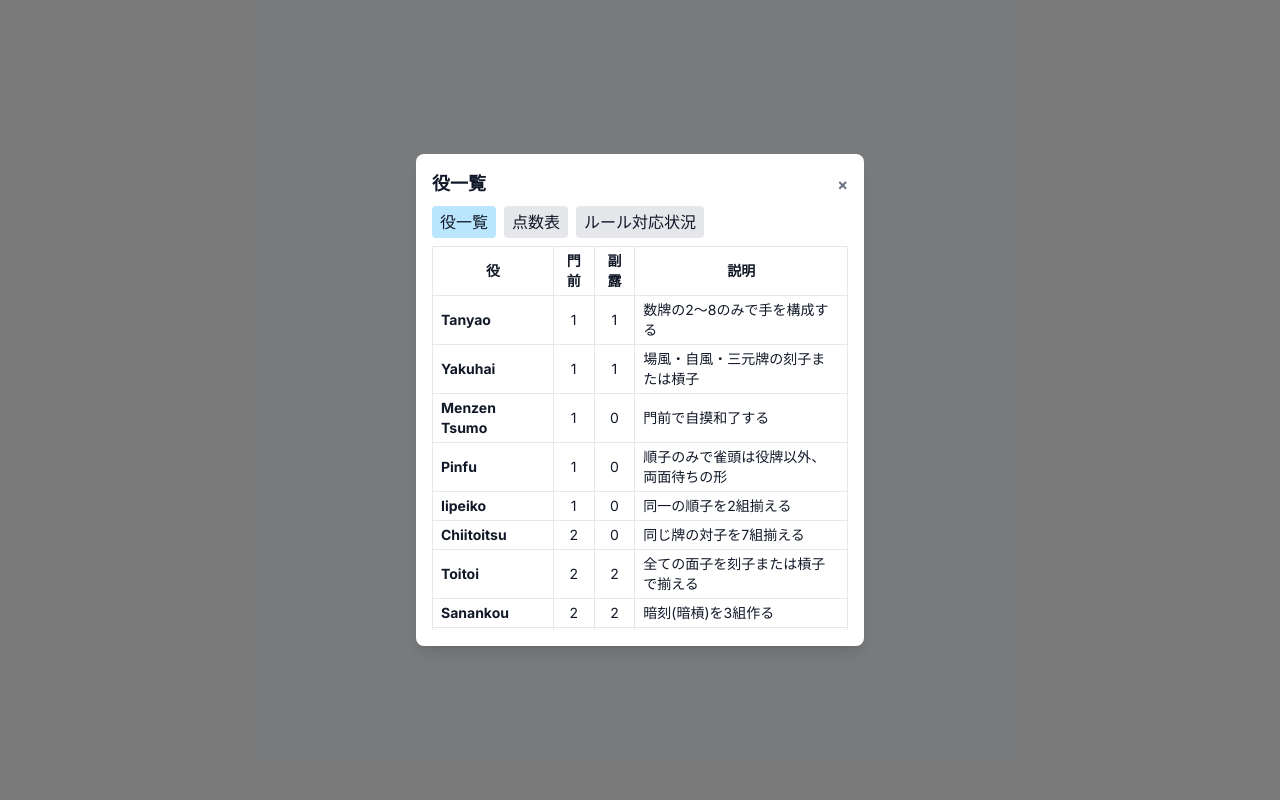
Test: HelpModal › switches between tabs and shows ScoreTable
Expected: the heading "役一覧" is shown, [432, 170, 486, 198]
Click the button "点数表". click: (536, 222)
box: [504, 206, 568, 238]
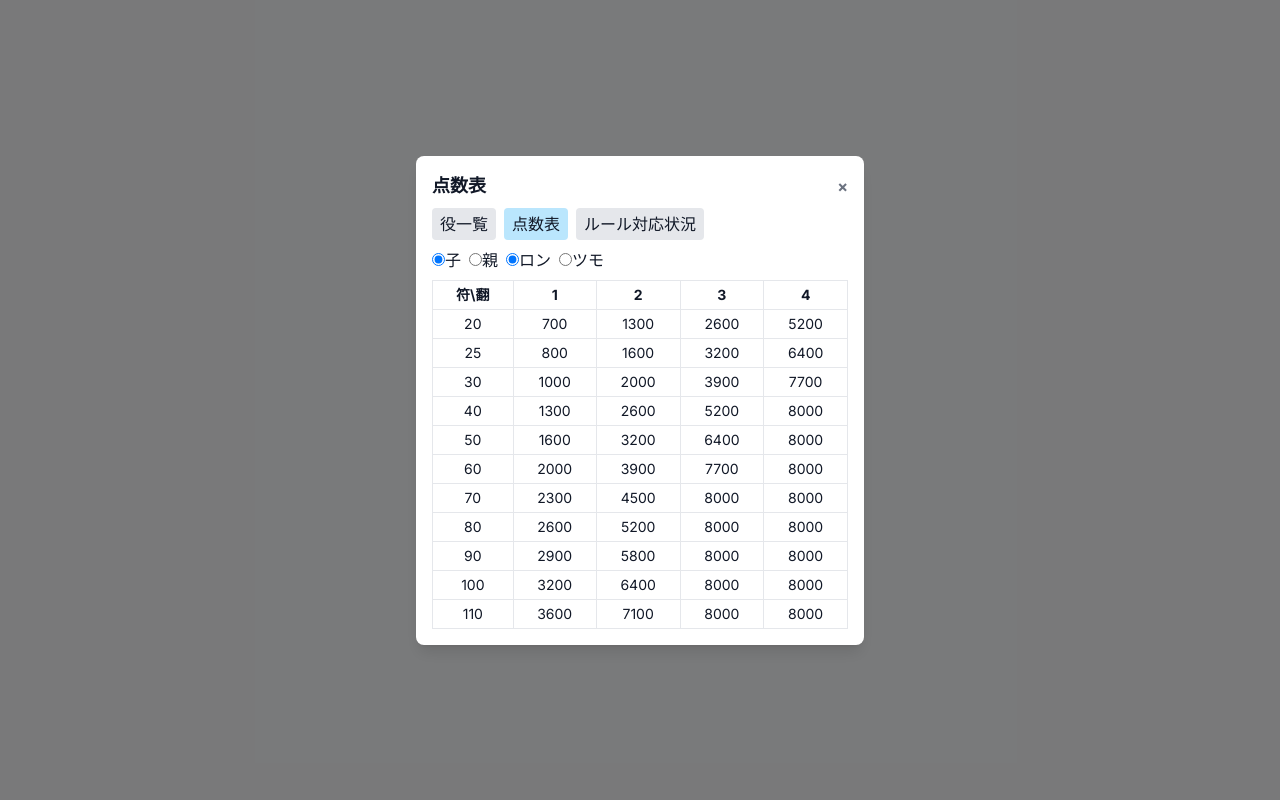
Expected: the heading "点数表" is shown, [432, 172, 486, 200]
Expected: the column heading "符\\翻" is shown, [432, 280, 513, 309]
Click the button "役一覧". click: (464, 224)
box: [432, 208, 496, 240]
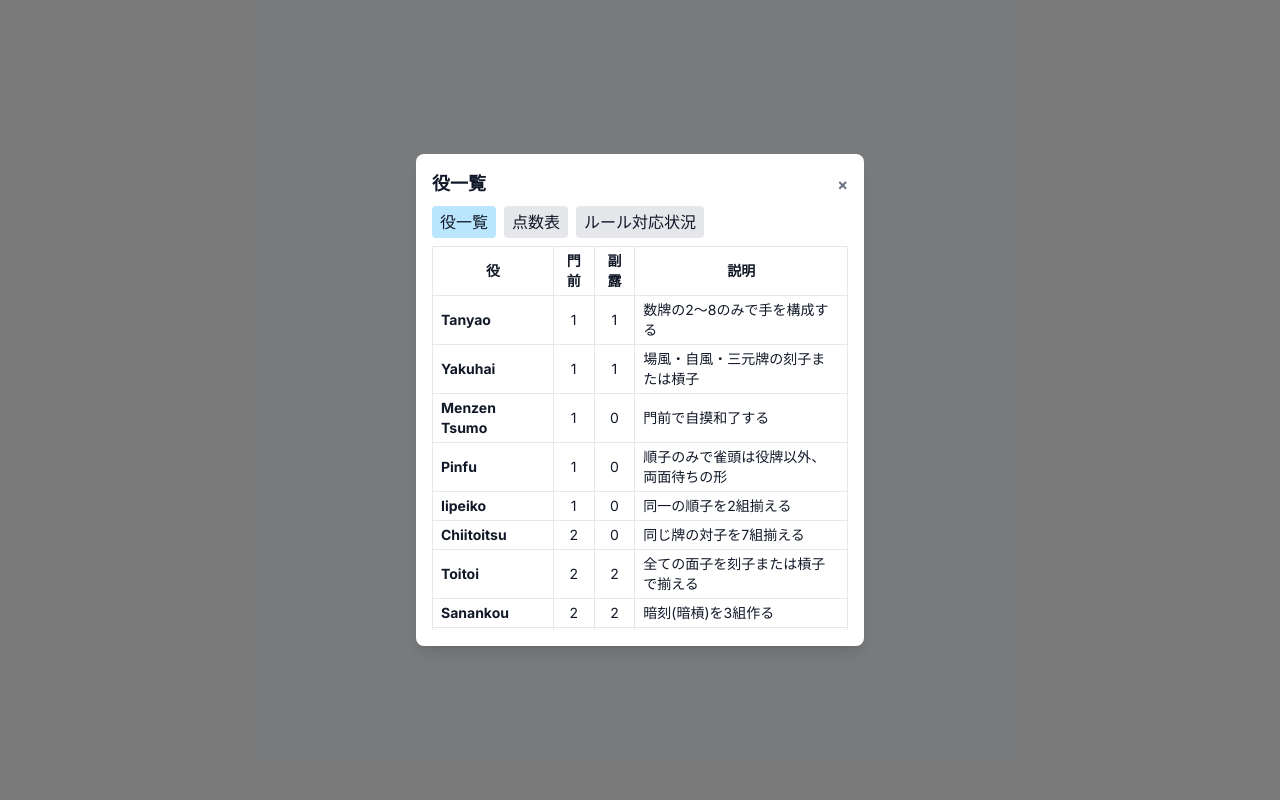
Expected: the heading "役一覧" is shown, [432, 170, 486, 198]
Expected: the column heading "符\\翻" is gone
